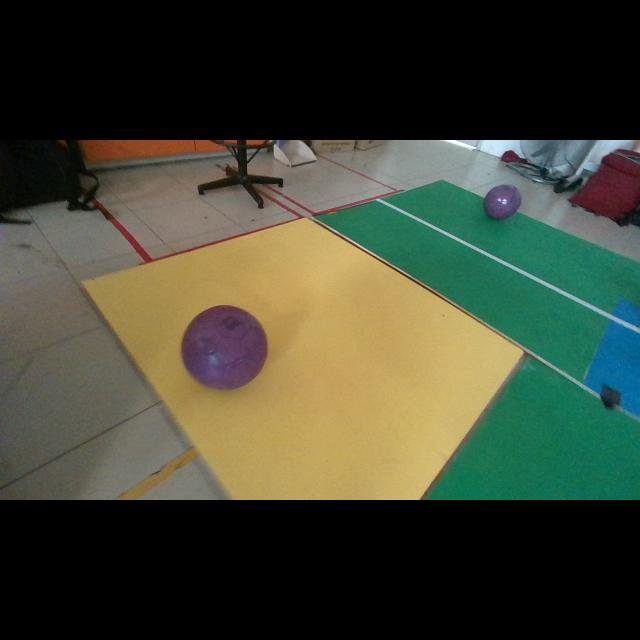P: (181, 305, 268, 389), (484, 185, 521, 219)
